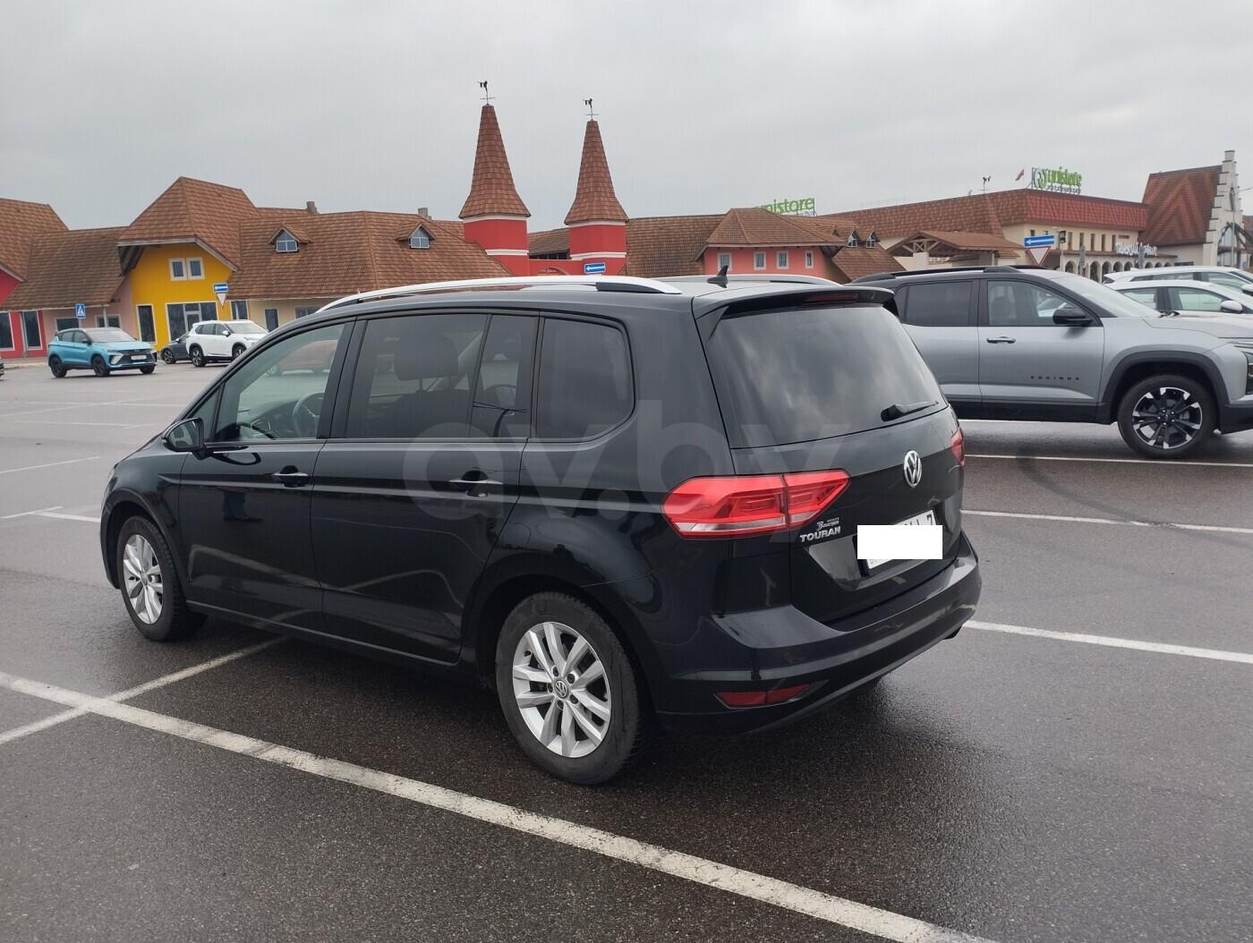Touran_2015: (92, 274, 986, 792)
